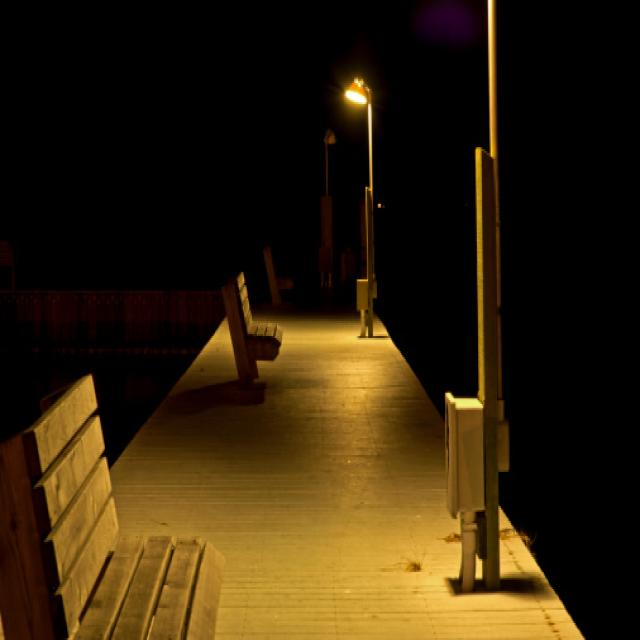chair: (223, 257, 286, 396), (255, 233, 303, 313)
